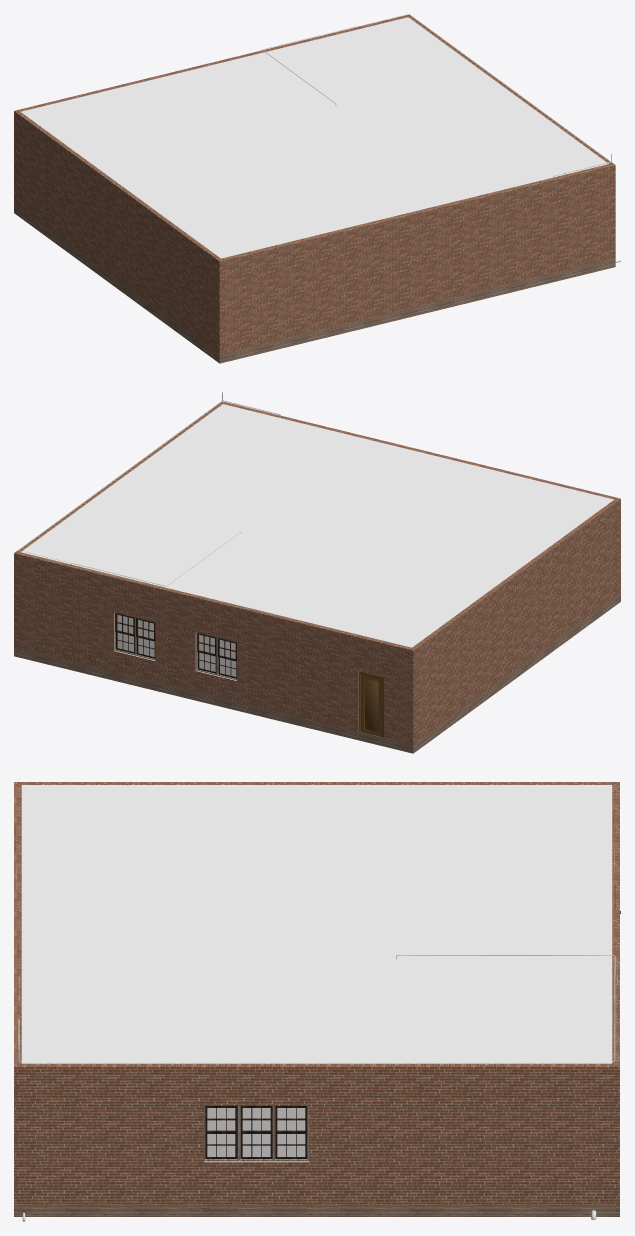
The picture shows the model from 3 angles, top to bottom: view 1: azimuth 30°, elevation 25°; view 2: azimuth 150°, elevation 25°; view 3: azimuth 270°, elevation 25°; orthographic projection. The views are drawn at different scales.
Visible parts, largest first — view 1: Cube.047, Cube.001, Cube; view 2: Cube.047, Cube.001, Cube, door-o; view 3: Cube.047, Cube.001, Cube, pipe_restroom.
Boxes of the visible parts, x1=… form: Cube.047: x1=21, y1=17, x2=608, y2=258; Cube.001: x1=14, y1=14, x2=615, y2=355; Cube: x1=14, y1=205, x2=615, y2=363; Cube.047: x1=21, y1=404, x2=613, y2=647; Cube.001: x1=14, y1=401, x2=620, y2=745; Cube: x1=14, y1=593, x2=620, y2=753; door-o: x1=361, y1=674, x2=381, y2=737; Cube.047: x1=21, y1=785, x2=612, y2=1063; Cube.001: x1=14, y1=782, x2=619, y2=1204; Cube: x1=14, y1=1106, x2=619, y2=1216; pipe_restroom: x1=19, y1=1023, x2=615, y2=1061.
Bounding box in the file's own units: 15.31 × 4.08 × 13.52.
Materials: 118 (58 with a texture image).
